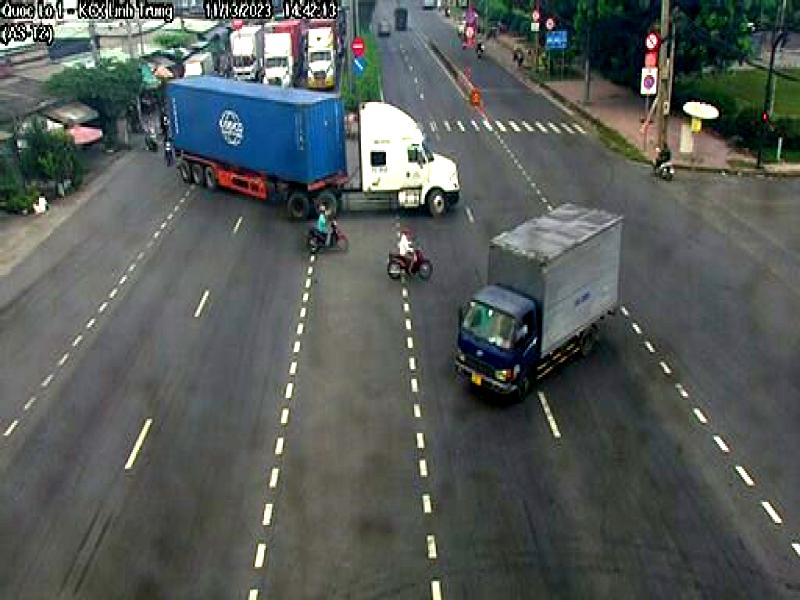truck: (163, 73, 480, 219), (453, 198, 628, 400)
